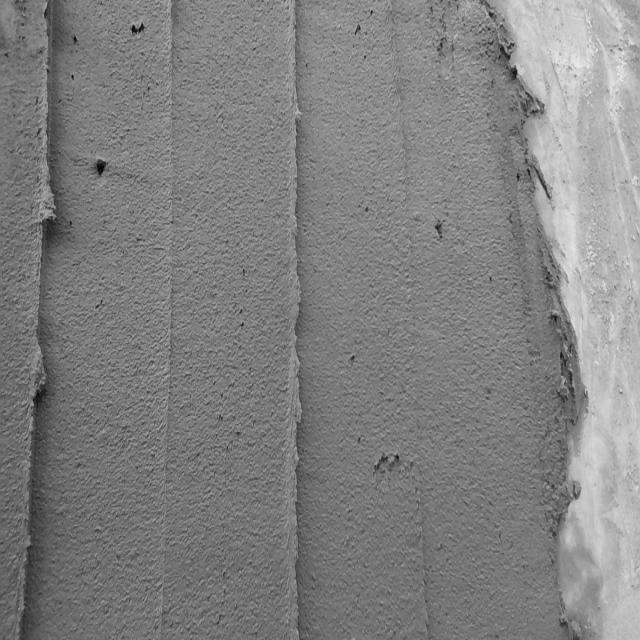trowels marks: (278, 0, 316, 632), (21, 0, 51, 632), (158, 7, 178, 494)
